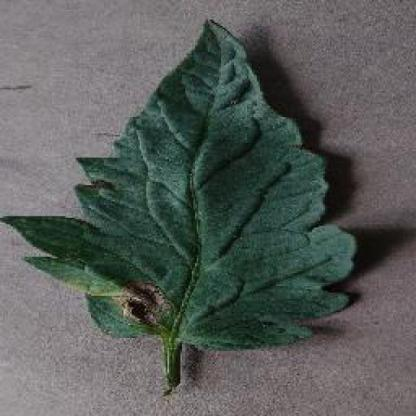Tomato_Blight: (29, 17, 356, 338)
